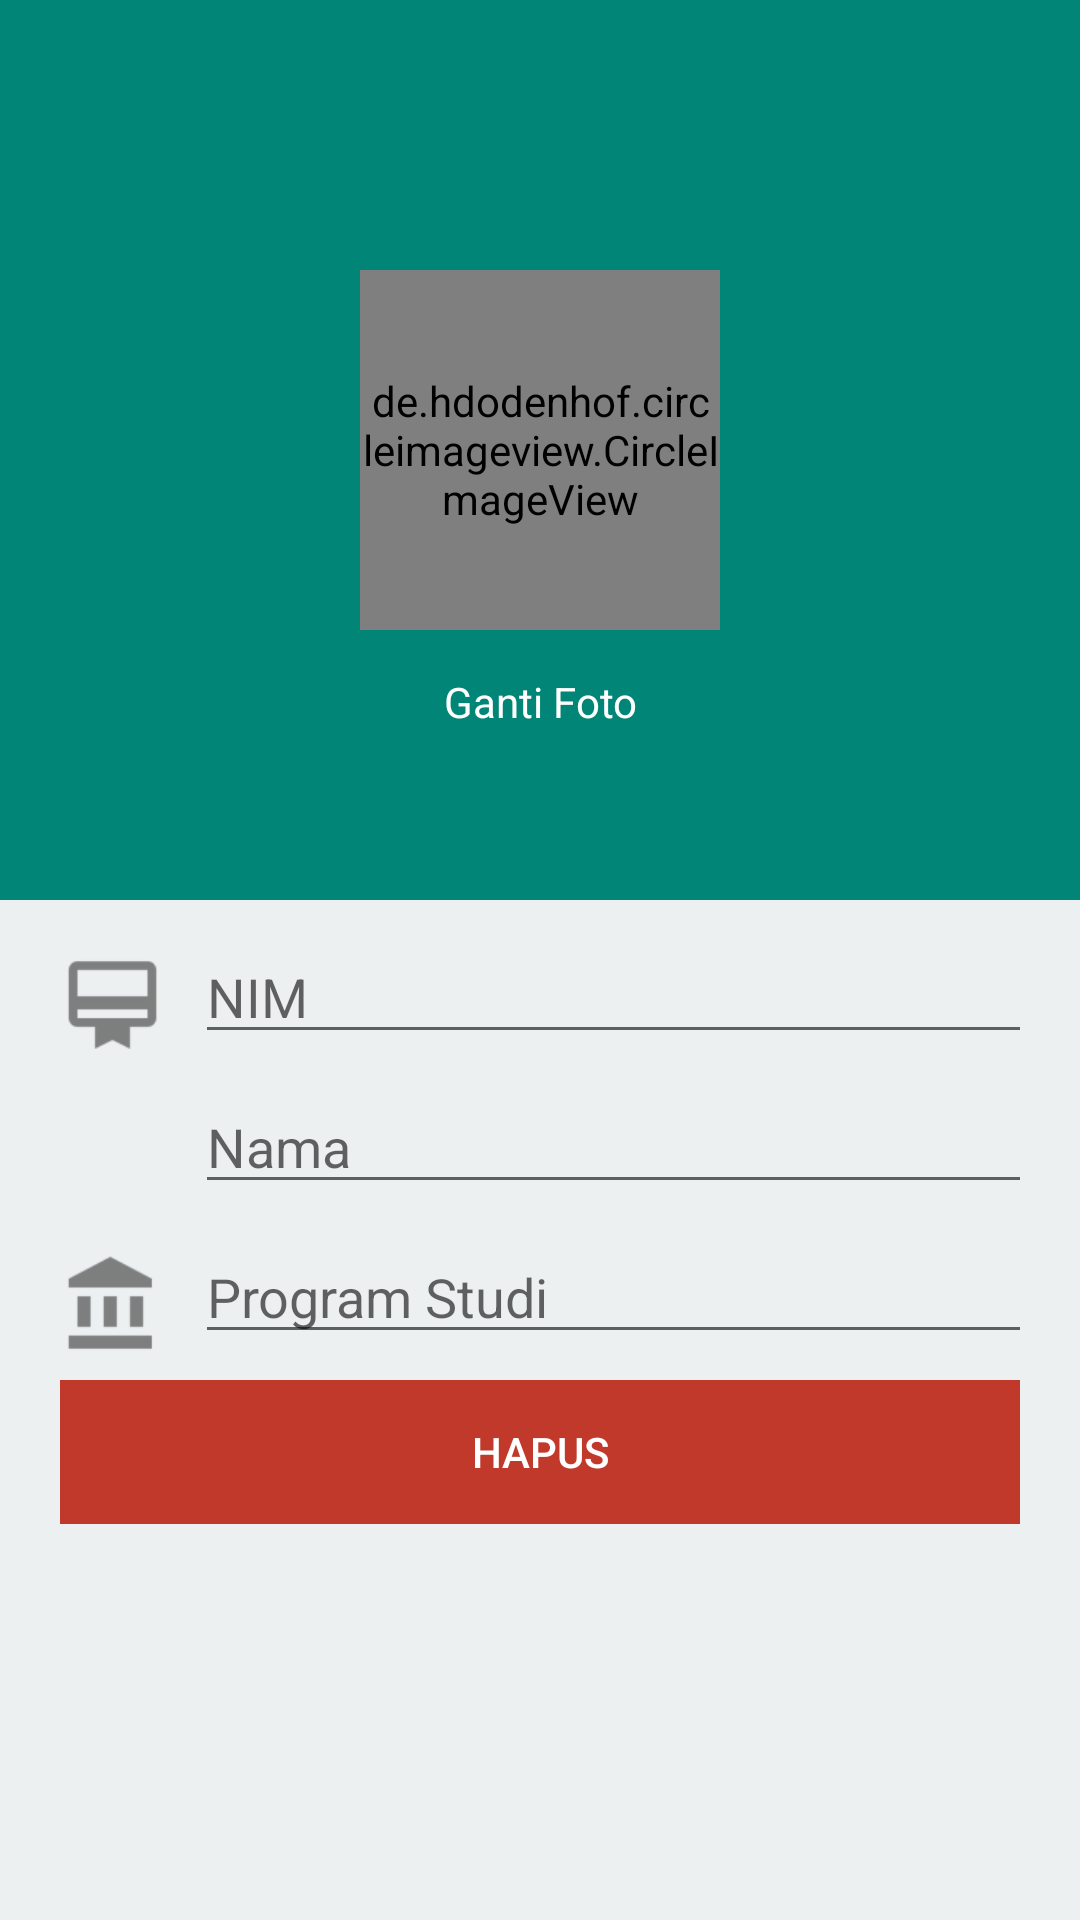

Where to tap for icons on this 1080w x 1920h app screen, as (x,y):
jurusan: (110,1303)
